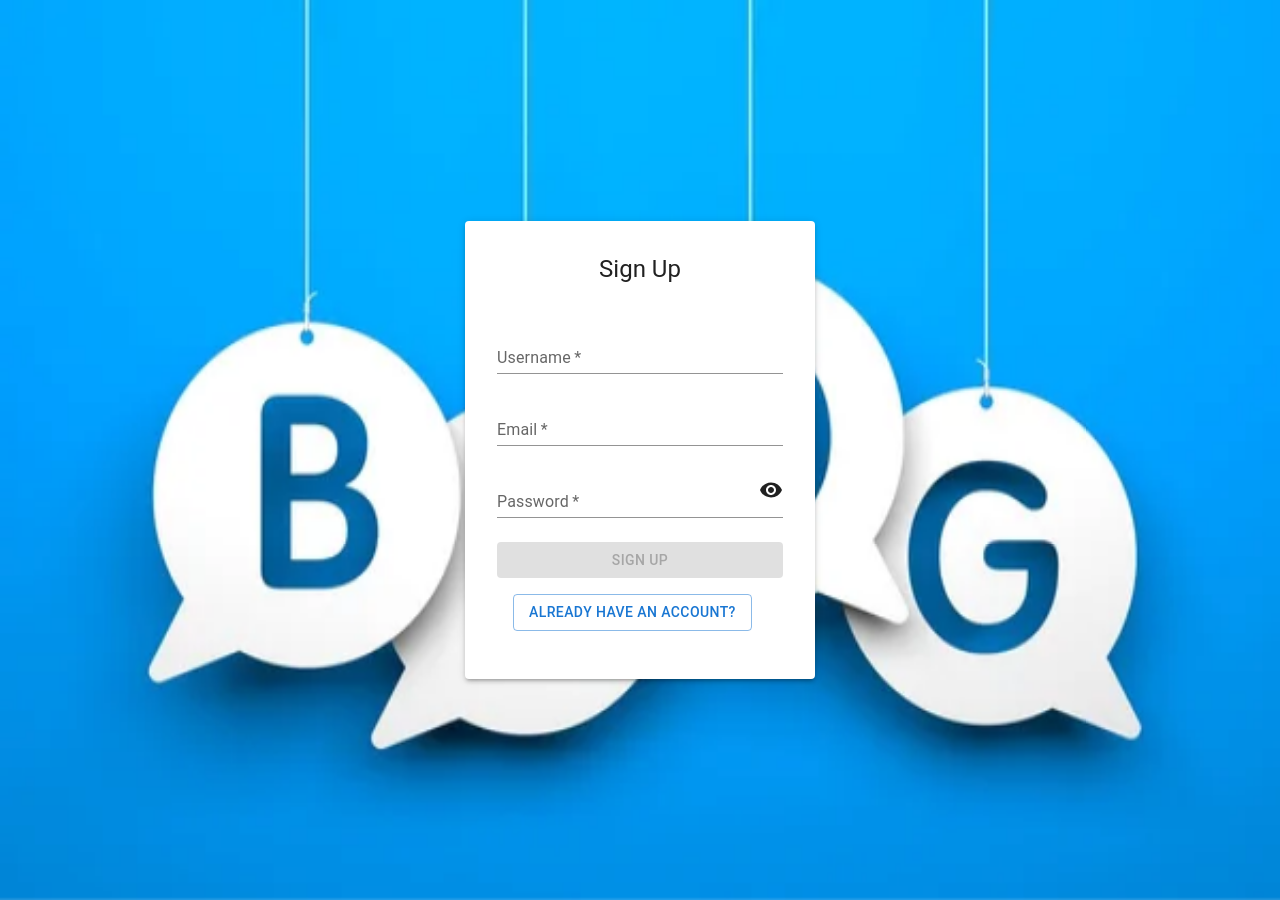
Test case: SignupPage Component › displays error message when registration fails
Step 1. Type "existinguser" into the field labelled "Username *" → (640, 358), box [497, 342, 783, 374]
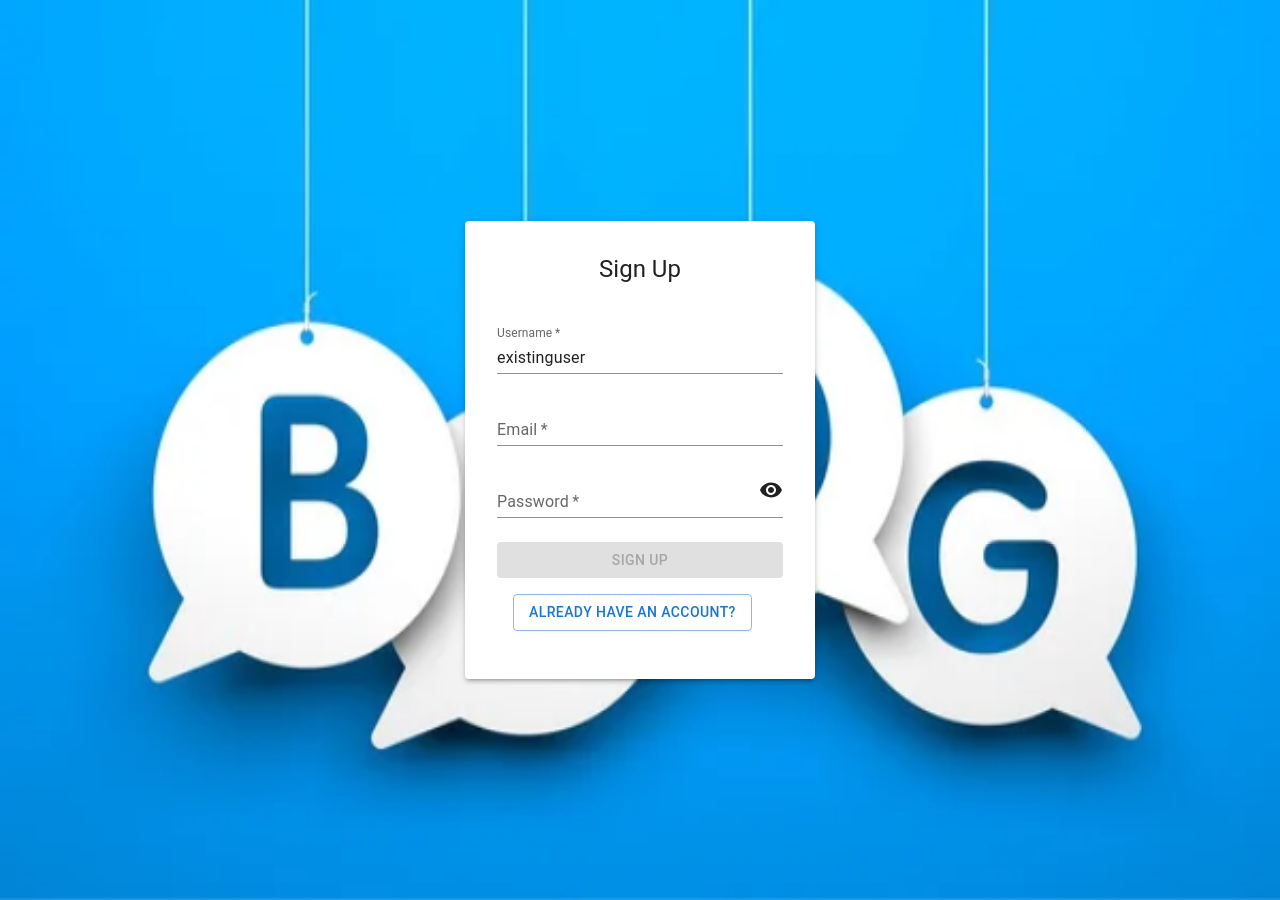
Step 2. Type "exists@example.com" into the field labelled "Email *" → (640, 430), box [497, 414, 783, 446]
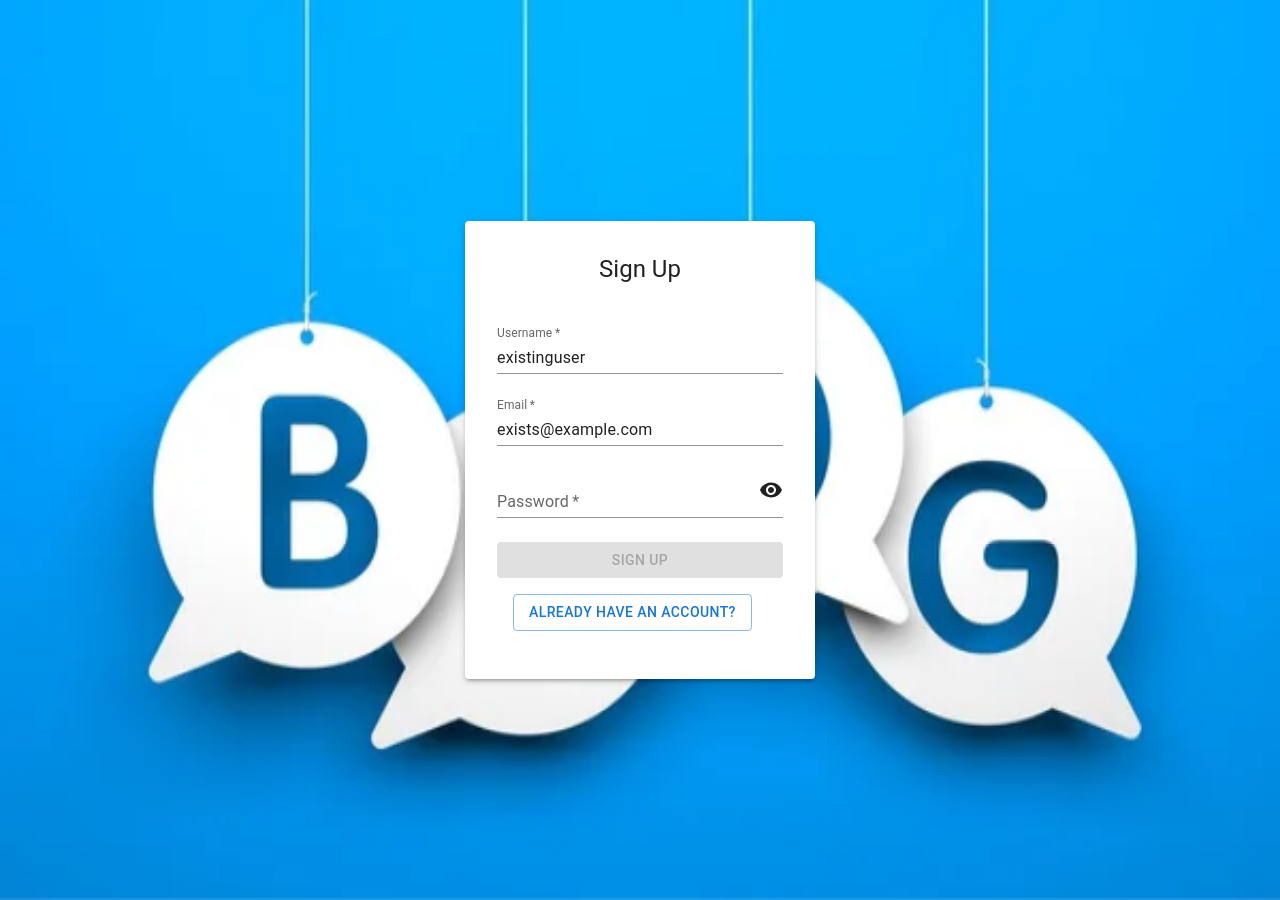
Step 3. Type "password123" into the password field labelled "Password *" → (640, 502), box [497, 486, 783, 518]
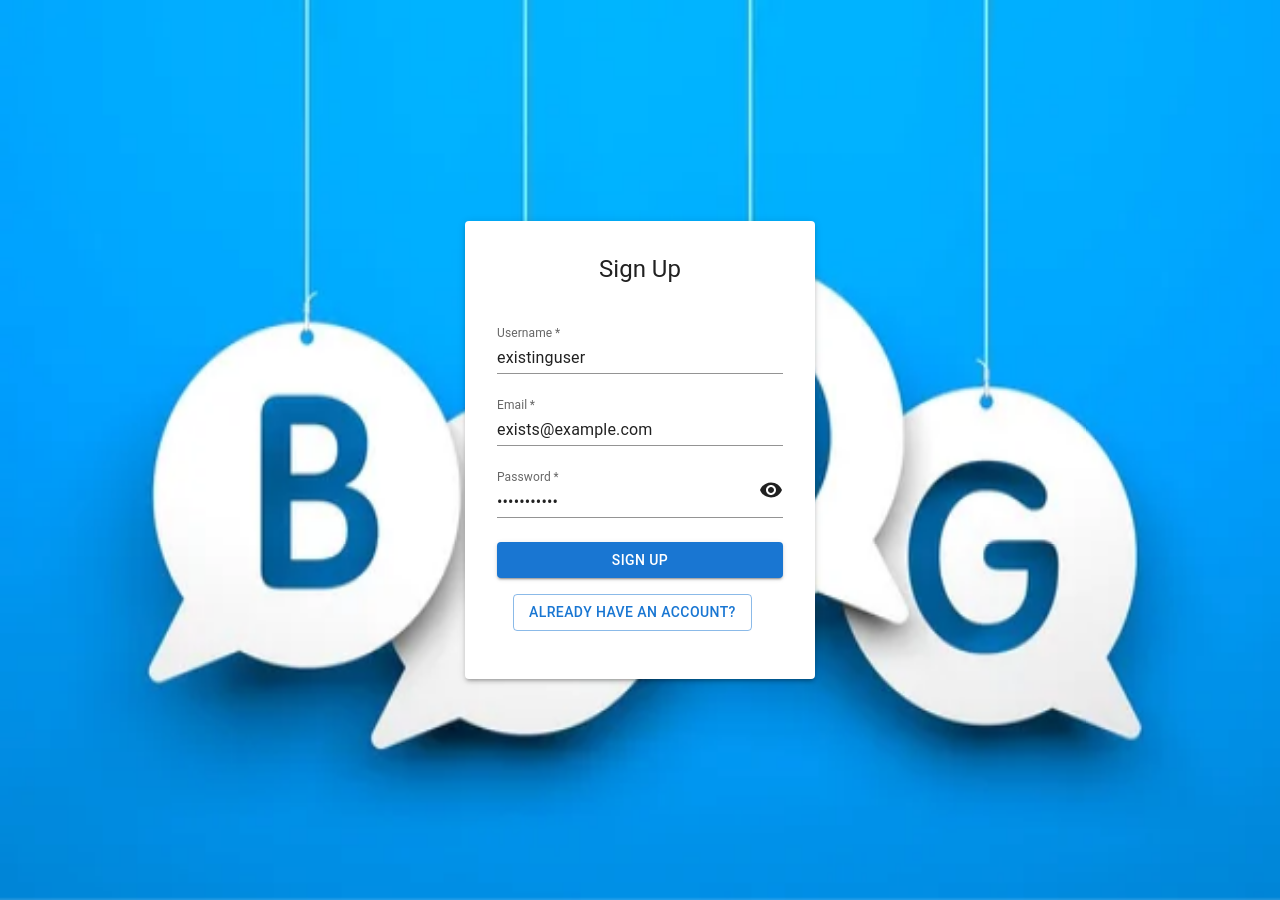
Step 4. Click the button "Sign up" → (640, 560), box [497, 542, 783, 578]
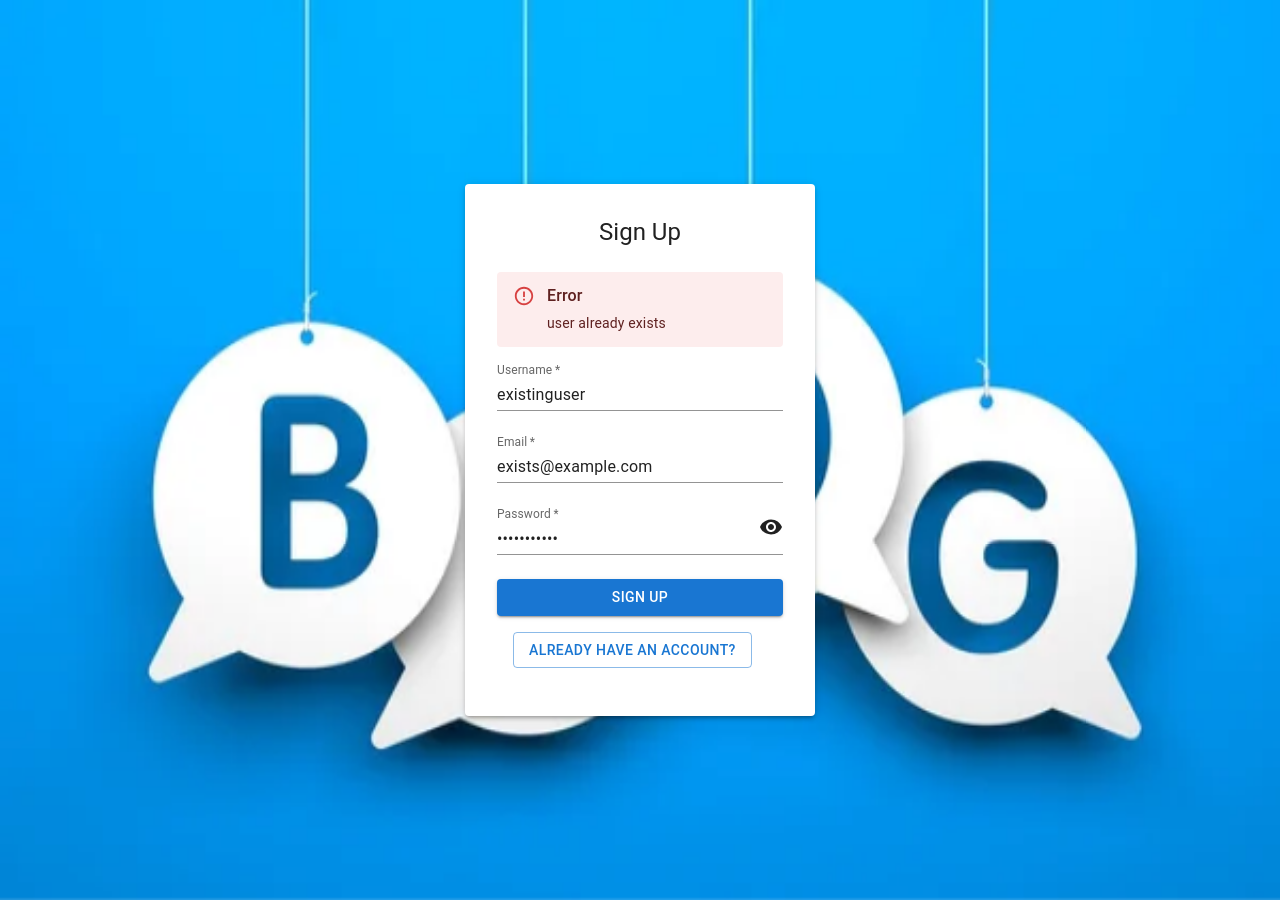
Check: the text "Error user already exists" is shown, box [547, 278, 666, 341]
